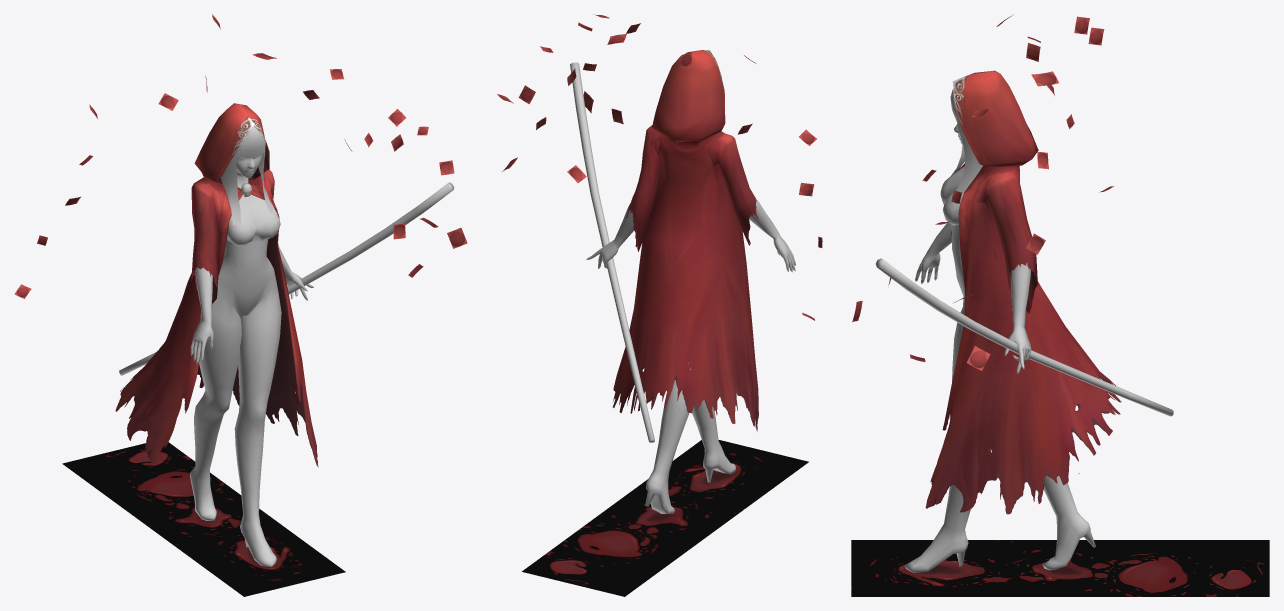
The model's file is AnimeGirlFbx.fbx.
The picture shows the model from 3 angles, left to right: view 1: azimuth 30°, elevation 25°; view 2: azimuth 150°, elevation 25°; view 3: azimuth 270°, elevation 25°; orthographic projection. The views are drawn at different scales.
Visible parts, largest first — view 1: Body, Plane, Body.001, Body.002; view 2: Body.001, Plane, Body; view 3: Body.001, Plane, Body, Body.002.
Part boxes in pixels (x1,y1,x2,y2): Body: [119, 153, 454, 566]; Plane: [14, 14, 467, 596]; Body.001: [115, 103, 318, 467]; Body.002: [220, 126, 277, 225]; Body.001: [612, 49, 758, 431]; Plane: [497, 14, 822, 596]; Body: [570, 62, 795, 513]; Body.001: [925, 70, 1121, 514]; Plane: [851, 14, 1269, 596]; Body: [875, 123, 1173, 572]; Body.002: [949, 89, 982, 203].
Size of the model in its own units: 1557 by 1939 by 1305.
